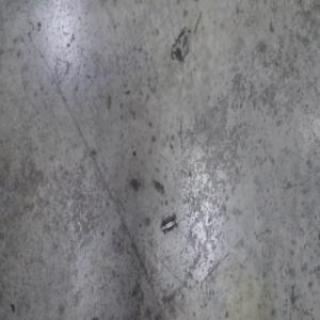Bolttrack_idkeyframe: (159, 212, 176, 234)
